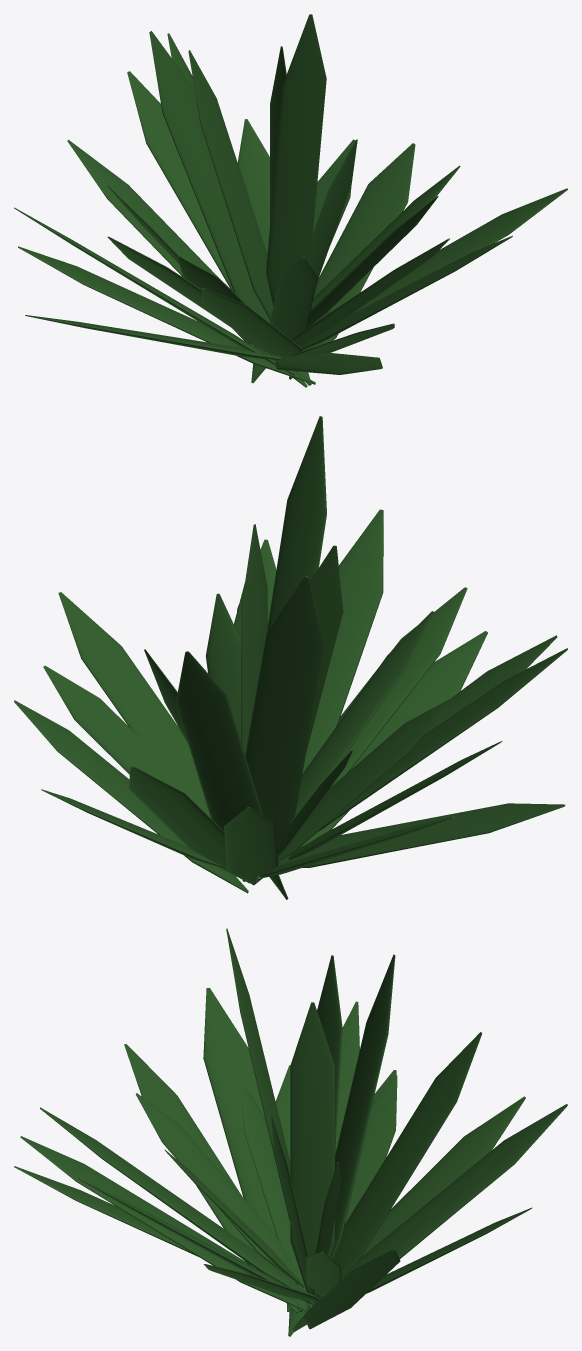
Rendered from Bush_1.obj.
The picture shows the model from 3 angles, top to bottom: view 1: azimuth 30°, elevation 25°; view 2: azimuth 150°, elevation 25°; view 3: azimuth 270°, elevation 25°; orthographic projection. The views are drawn at different scales.
Visible parts, largest first — view 1: curve2; view 2: curve2; view 3: curve2.
Part boxes in pixels (x1,y1,x2,y2): curve2: (14, 14, 567, 387); curve2: (14, 416, 567, 899); curve2: (14, 928, 567, 1336).
Bounding box in the file's own units: 24.71 × 19.14 × 24.55.
